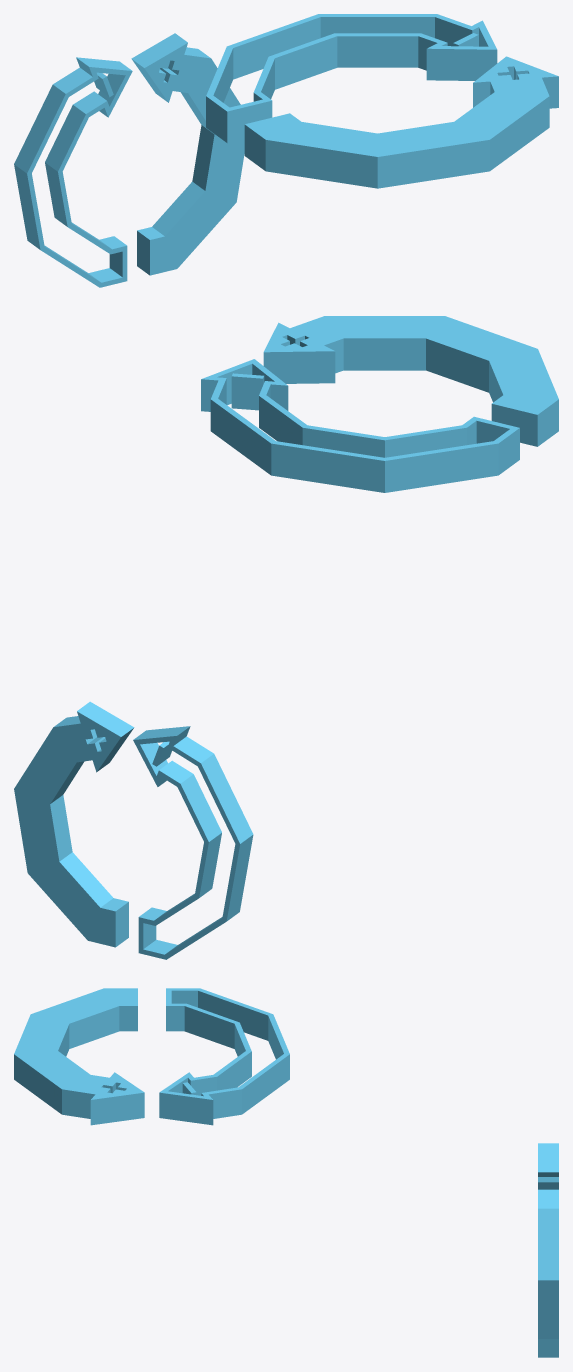
File: mpe_arrow_wheel_5.dae
3 views of the same model, one above another, from view 1: azimuth 30°, elevation 25°; view 2: azimuth 150°, elevation 25°; view 3: azimuth 270°, elevation 25° (orthographic). The views are drawn at different scales.
Visible parts, largest first — view 1: arrow; view 2: arrow; view 3: arrow.
Part boxes in pixels (x1=…): arrow: x1=14, y1=14, x2=558, y2=287; arrow: x1=14, y1=316, x2=558, y2=959; arrow: x1=14, y1=988, x2=558, y2=1357.
Size of the model in its own units: 0.4717 by 0.9722 by 0.587.
